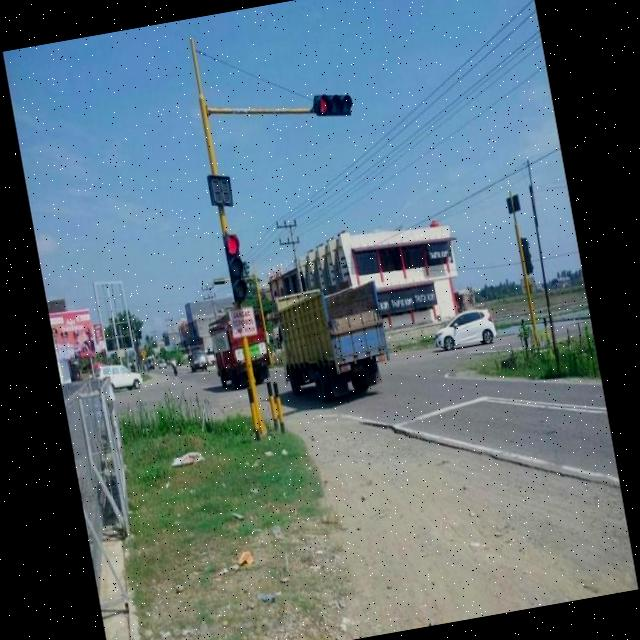Czerwone swiatlo: (222, 230, 250, 308)
